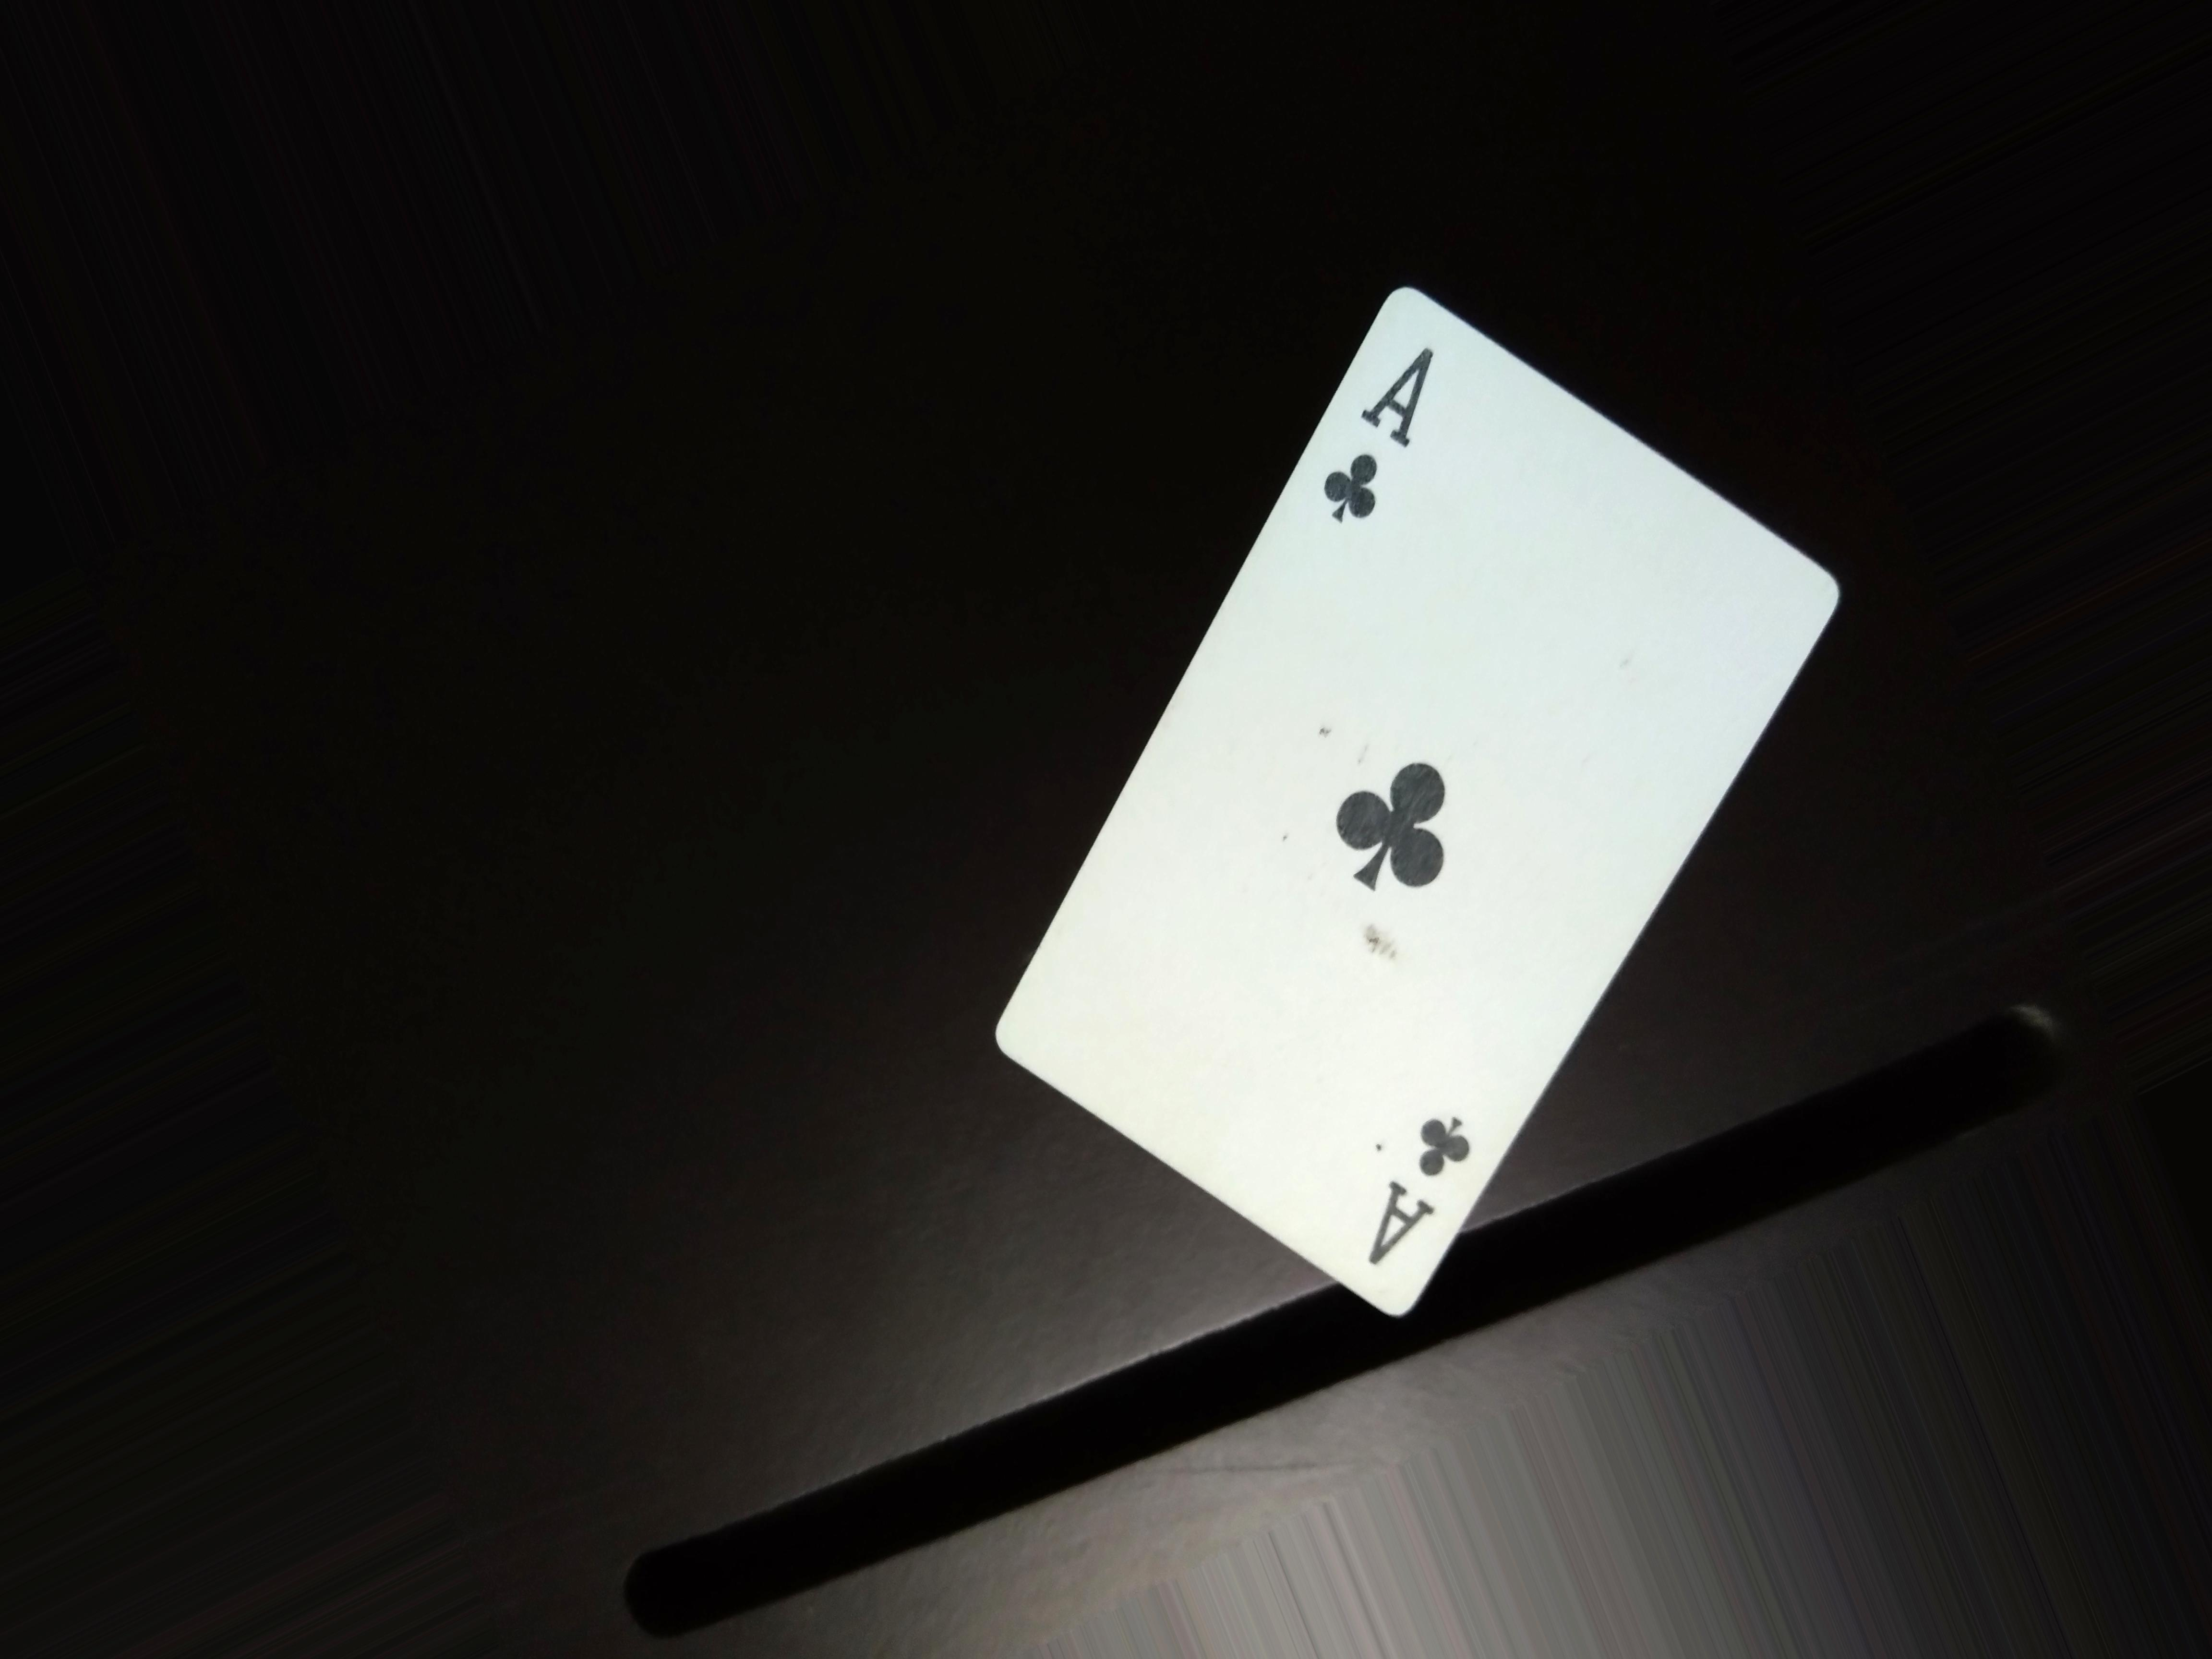AC: (1315, 340, 1444, 530)
